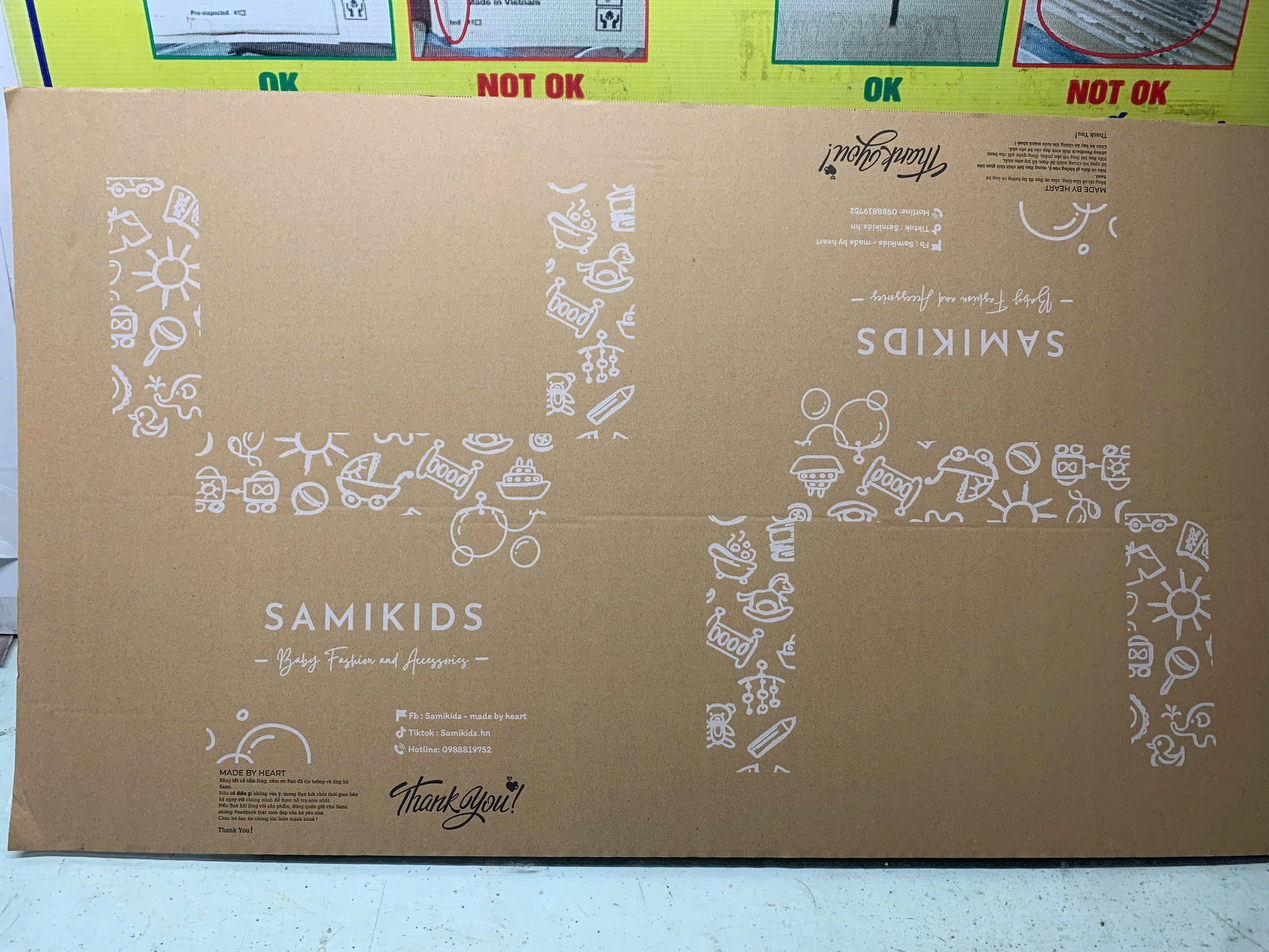box: (6, 90, 1269, 858)
